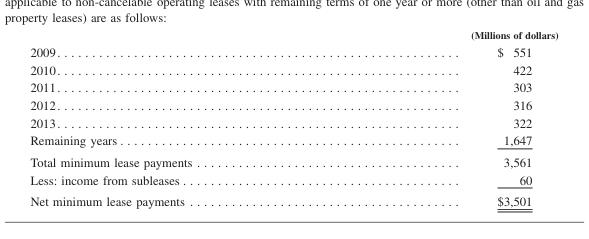table: (29, 28, 557, 207)
table column: (29, 28, 331, 207), (331, 28, 557, 207)
table column header: (29, 28, 557, 42)
table row: (29, 150, 557, 170), (29, 131, 557, 150), (29, 170, 557, 189), (29, 42, 557, 60), (29, 60, 557, 78), (29, 95, 557, 113), (29, 113, 557, 131), (29, 189, 557, 207), (29, 78, 557, 95), (29, 28, 557, 42)
